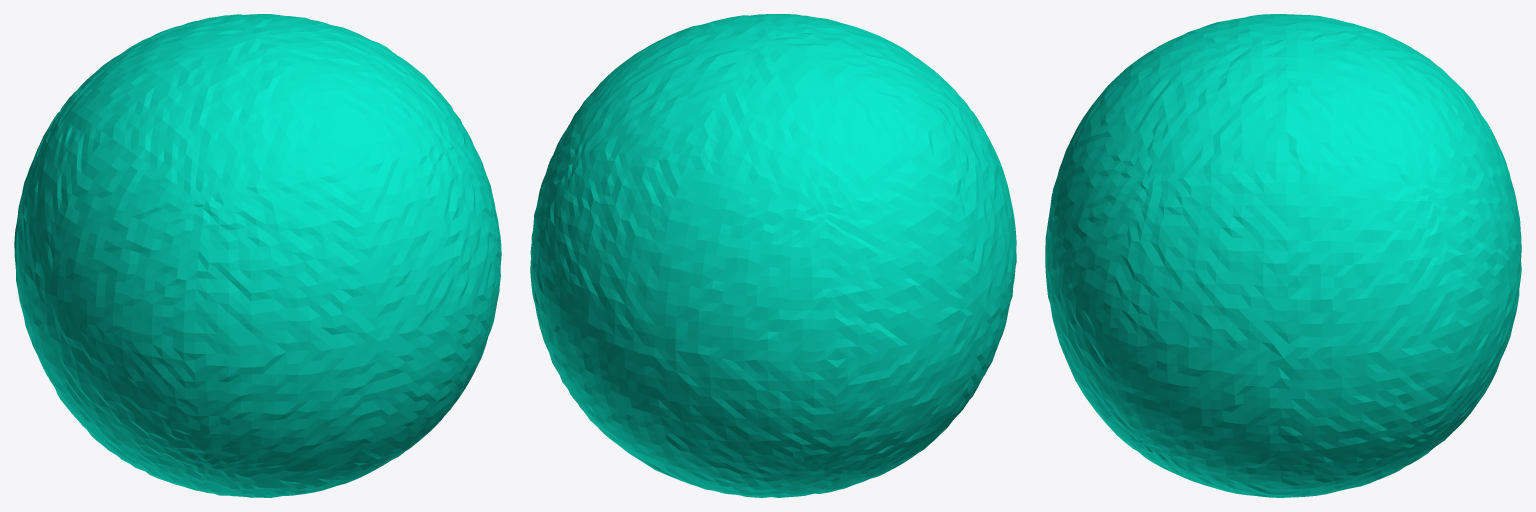
File: Sea14.fbx
3 renders of one model, left to right at view 1: azimuth 30°, elevation 25°; view 2: azimuth 150°, elevation 25°; view 3: azimuth 270°, elevation 25°, orthographic.
Visible parts, largest first — view 1: pCube1; view 2: pCube1; view 3: pCube1.
Part boxes in pixels (<box>): pCube1: <box>14,14,501,497</box>; pCube1: <box>530,14,1016,497</box>; pCube1: <box>1045,14,1521,497</box>.
Size of the model in its own units: 40.17 by 40.15 by 40.13.
